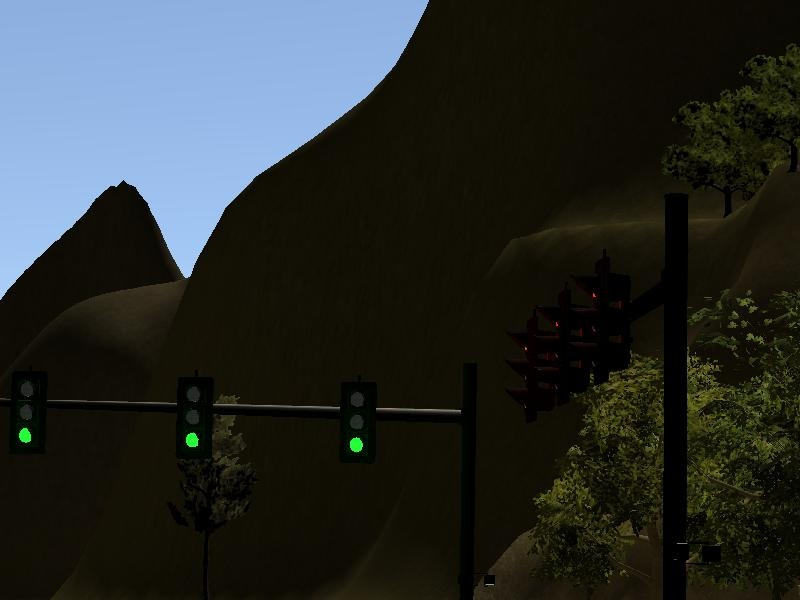GREEN: (176, 375, 213, 459), (338, 378, 375, 462), (6, 370, 43, 454)
